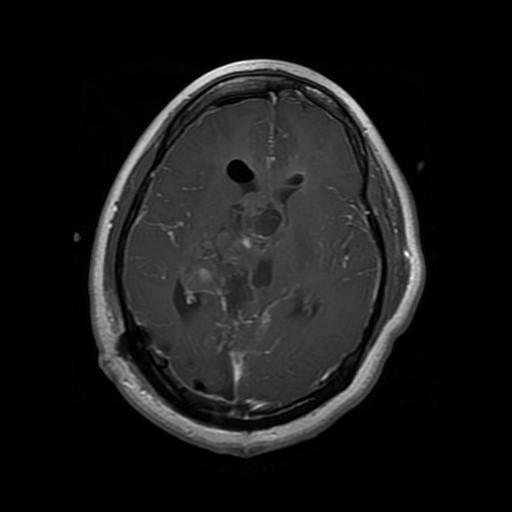Tumour-Glioma: (228, 190, 298, 255)
